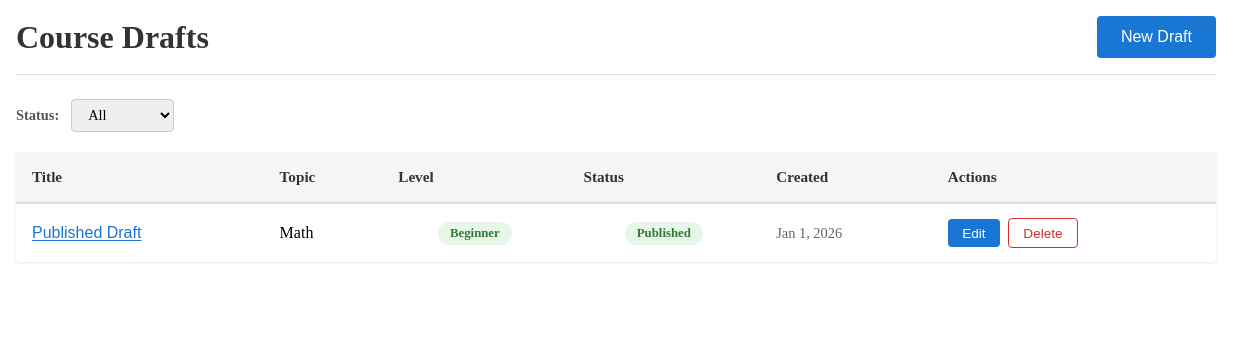
DraftListView › DraftListView_DeletePublishedDraft_Shows409DraftAlreadyPublished
Click the button with class "delete-button".
click(1043, 233)  # box [1008,218,1078,248]
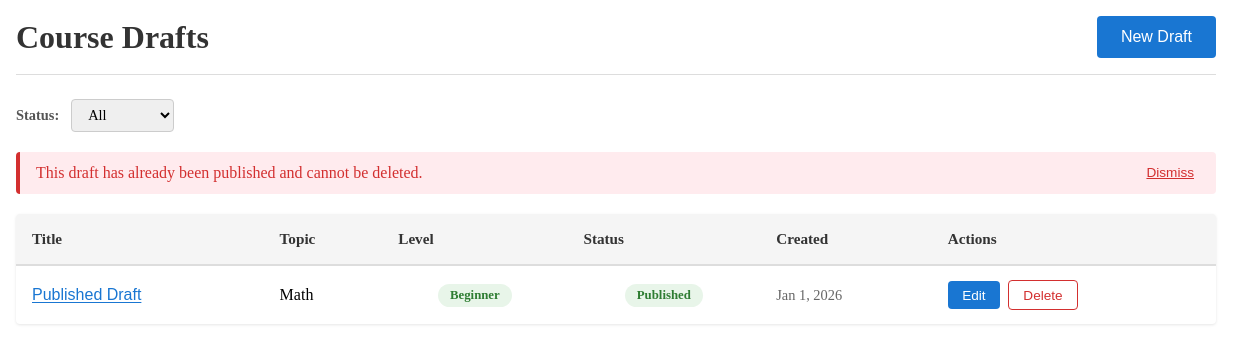
Expected: the element with test id "delete-error-banner" is shown, [16,152,1216,194]
Expected: the element with test id "delete-error-banner" shows "already been published", [36,164,422,181]
